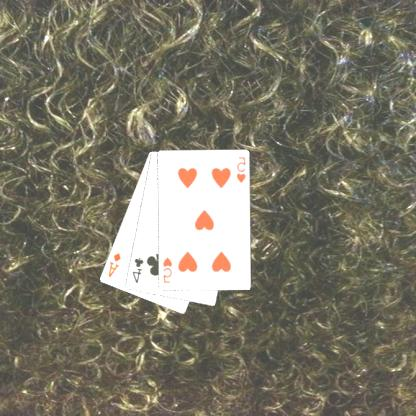4C: (131, 254, 147, 284)
5H: (236, 154, 249, 184), (162, 254, 174, 284)
AD: (107, 250, 124, 279)
